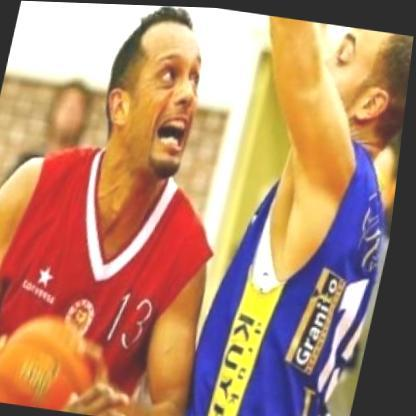basketball: (0, 304, 119, 414)
